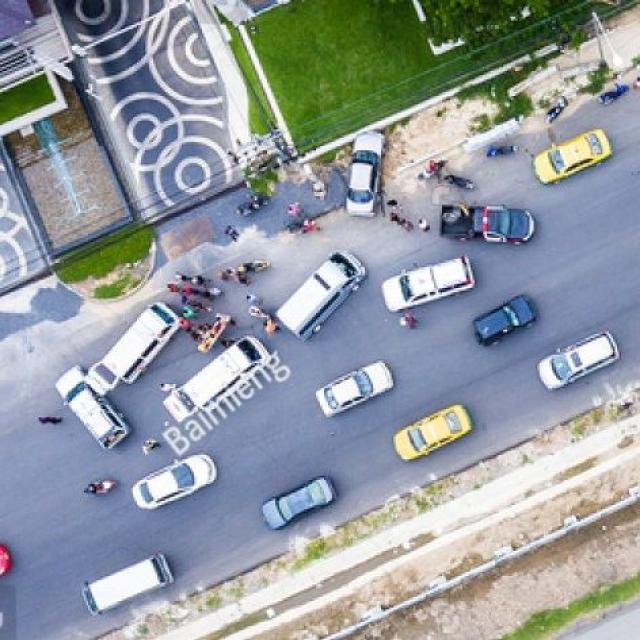traffic_incident: (306, 102, 424, 240)
